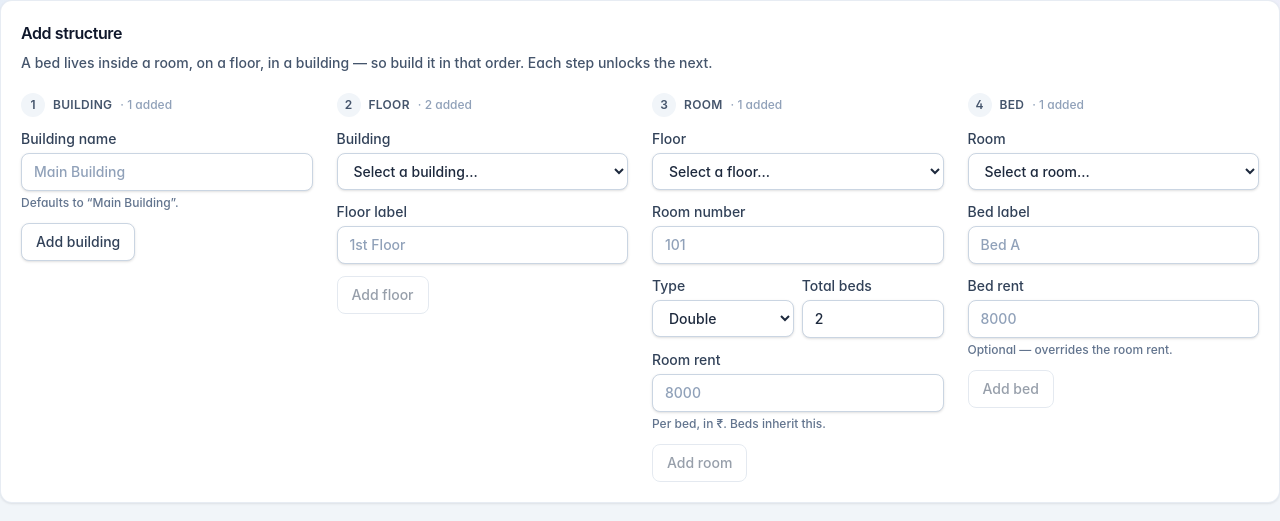
Test case: StructureBuilder › will not let a room exceed its declared bed capacity
The width and height of the screenshot is (1280, 521).
Select "Room 101 (2/2)" in the dropdown labelled "Room" at (1113, 172), box [968,153,1259,190]
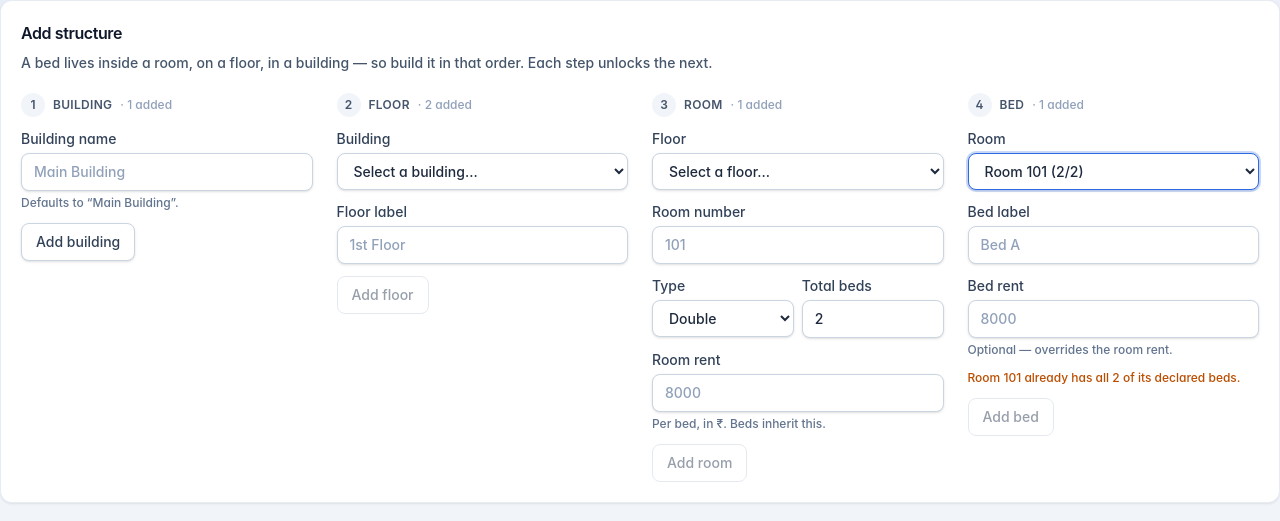
Expected: the button "Add bed" is disabled, [968,398,1054,436]
Now the text "Room 101 already has all 2 of its declared beds." is shown, box [968,370,1259,386]
